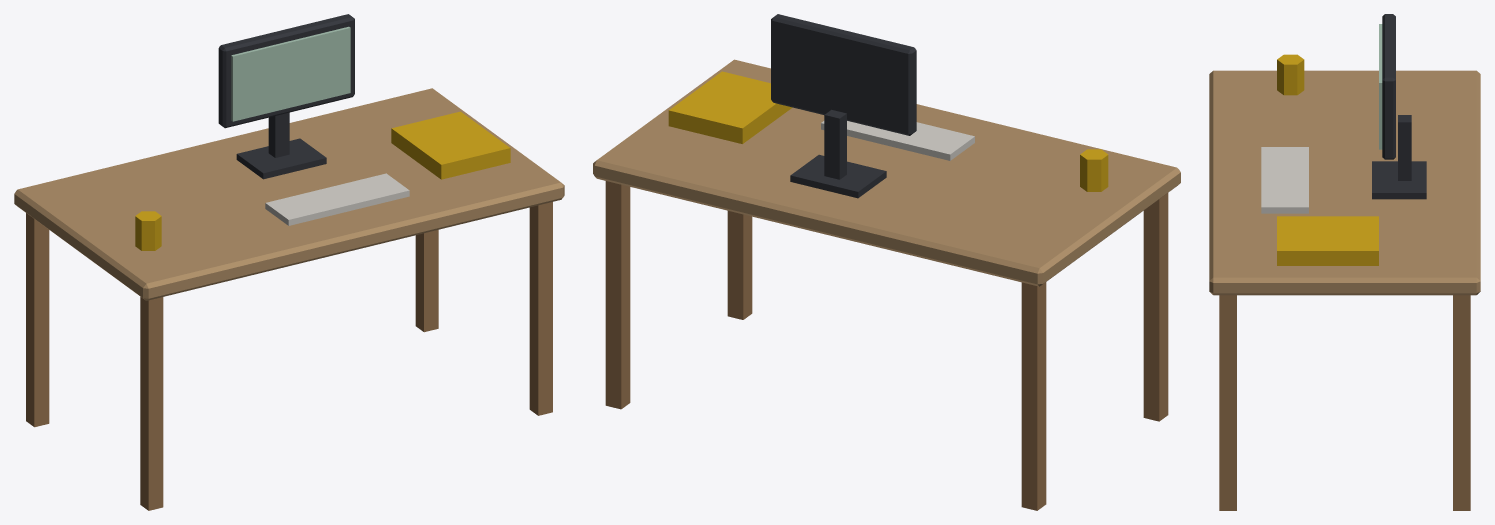
File: office-desk-00.glb
3 renders of one model, left to right at view 1: azimuth 30°, elevation 25°; view 2: azimuth 150°, elevation 25°; view 3: azimuth 270°, elevation 25°, orthographic. The views are drawn at different scales.
Visible parts, largest first — view 1: office_desk_00; view 2: office_desk_00; view 3: office_desk_00.
Boxes of the visible parts, x1,y1,x2,y2 form: office_desk_00: (14,14,564,510); office_desk_00: (593,14,1180,510); office_desk_00: (1209,14,1480,510).
Size of the model in its own units: 1.46 by 1.21 by 0.7981.
